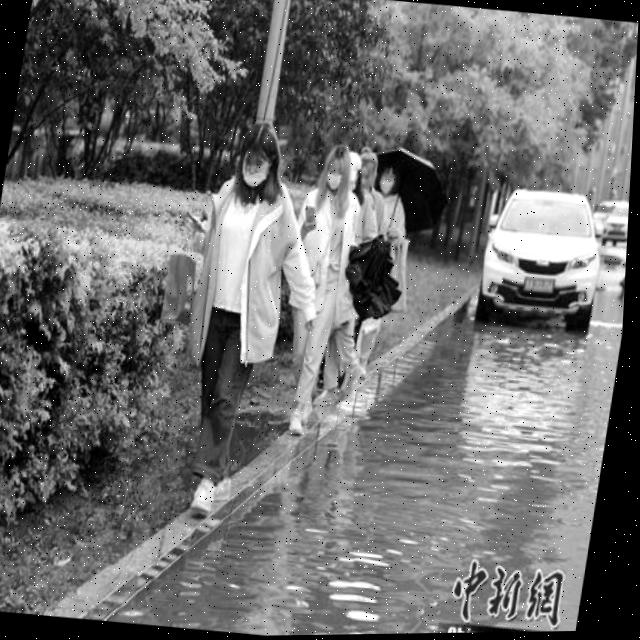civilian: (144, 105, 310, 520), (269, 140, 363, 442), (309, 135, 401, 408), (346, 142, 417, 393)
